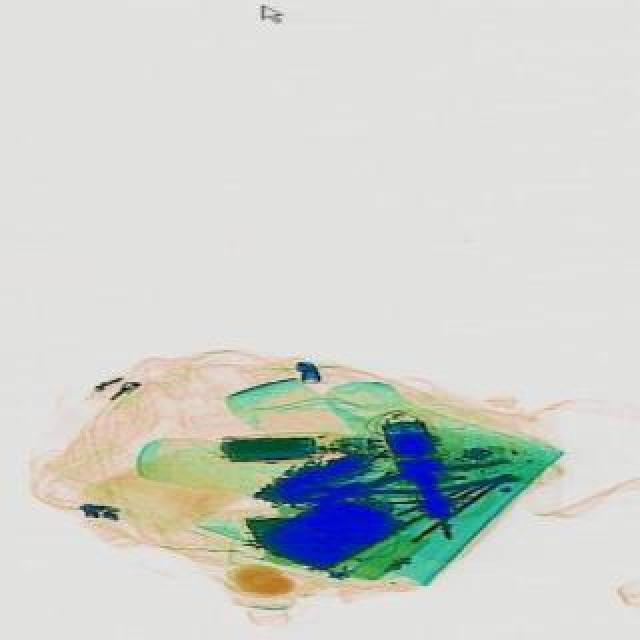wrench: (294, 452, 514, 512)
